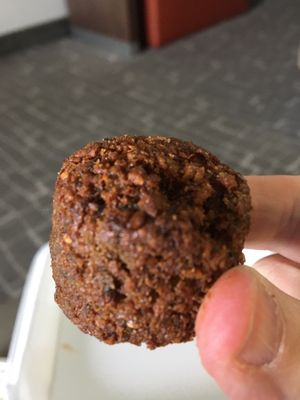curry: (1, 0, 300, 375)
salad: (48, 134, 253, 350)
